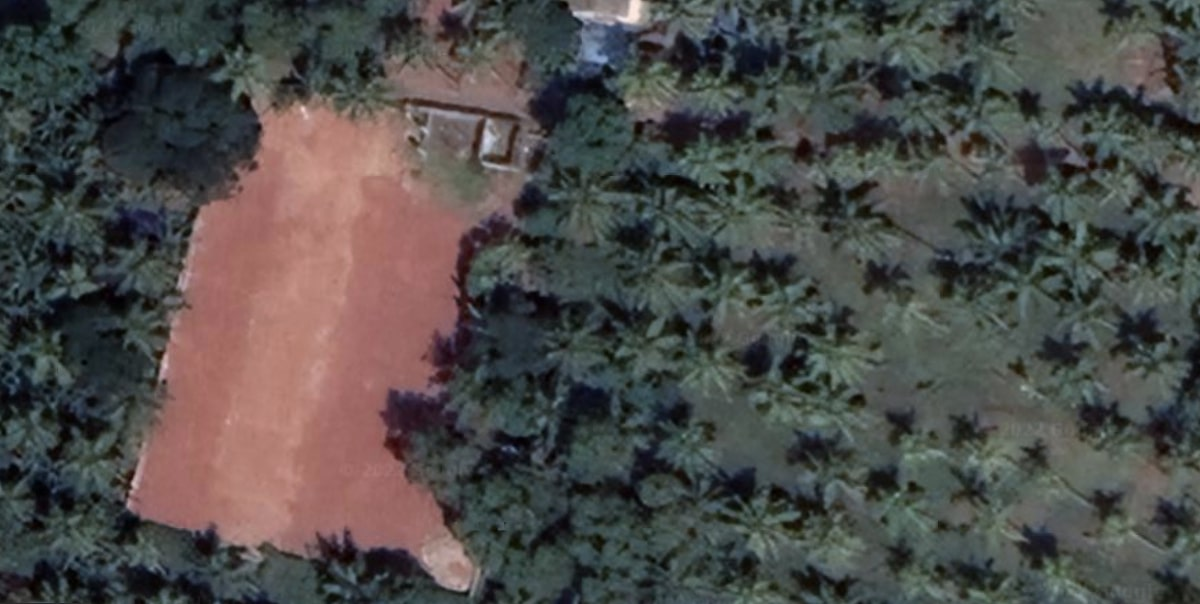coconut: (617, 248, 686, 317), (740, 483, 798, 563), (807, 324, 875, 392), (542, 304, 608, 373), (879, 18, 944, 84), (818, 184, 886, 246), (1091, 479, 1151, 547), (686, 339, 742, 407), (553, 169, 607, 238), (961, 20, 1021, 82), (621, 319, 680, 382), (803, 14, 862, 77), (1053, 304, 1118, 360), (611, 58, 673, 115), (872, 488, 933, 544), (951, 275, 1009, 333), (214, 42, 273, 99), (1096, 156, 1152, 215), (639, 181, 692, 243), (721, 130, 776, 189), (341, 62, 394, 120), (118, 311, 175, 364), (681, 132, 729, 192), (692, 63, 743, 116), (965, 430, 1012, 484), (1036, 557, 1088, 602), (901, 427, 946, 472)
